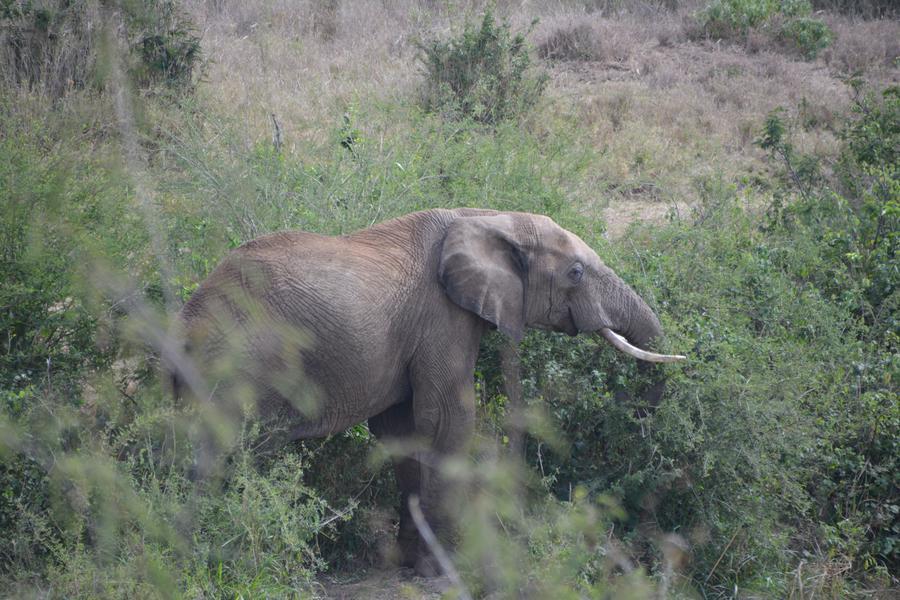elephant: (180, 210, 611, 475)
